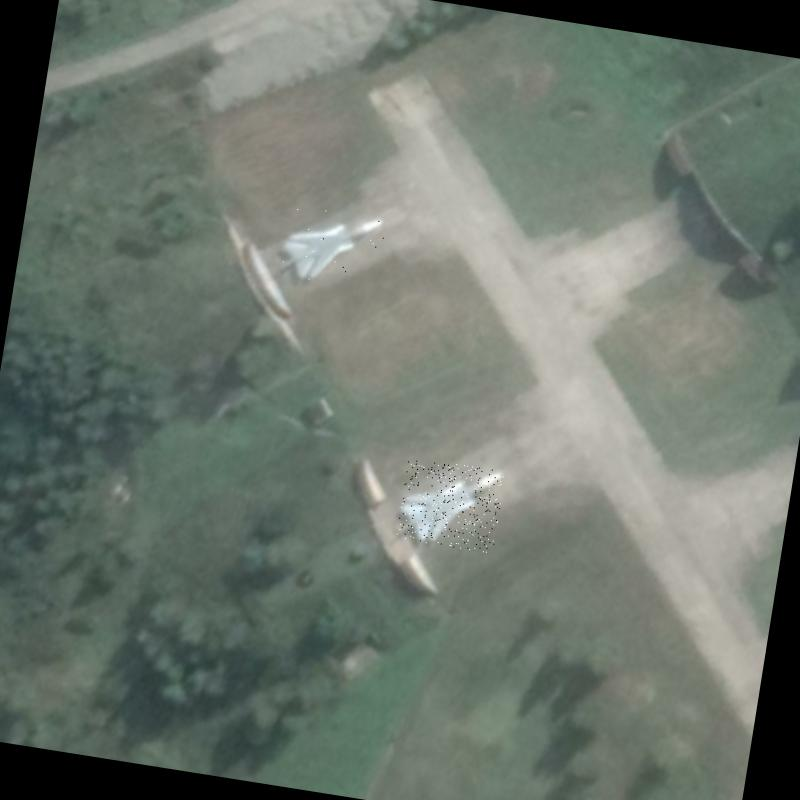A20: (396, 455, 506, 553), (278, 202, 387, 290)
